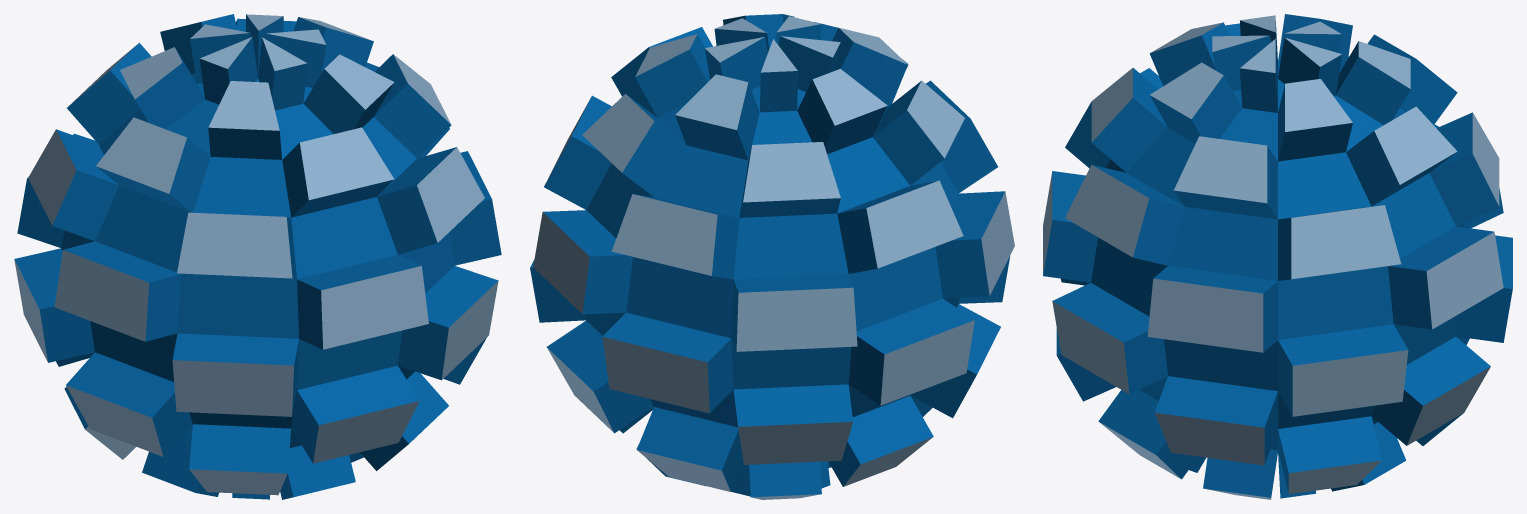
Rendered from Nubby_Out.fbx.
The picture shows the model from 3 angles, left to right: view 1: azimuth 30°, elevation 25°; view 2: azimuth 150°, elevation 25°; view 3: azimuth 270°, elevation 25°; orthographic projection.
Visible parts, largest first — view 1: pSphere2; view 2: pSphere2; view 3: pSphere2.
Part boxes in pixels (box(x1,y1,x2,y2)): pSphere2: box(14, 14, 501, 499); pSphere2: box(530, 14, 1014, 499); pSphere2: box(1043, 14, 1512, 499).
Bounding box in the file's own units: 5.67 × 5.72 × 5.5.
